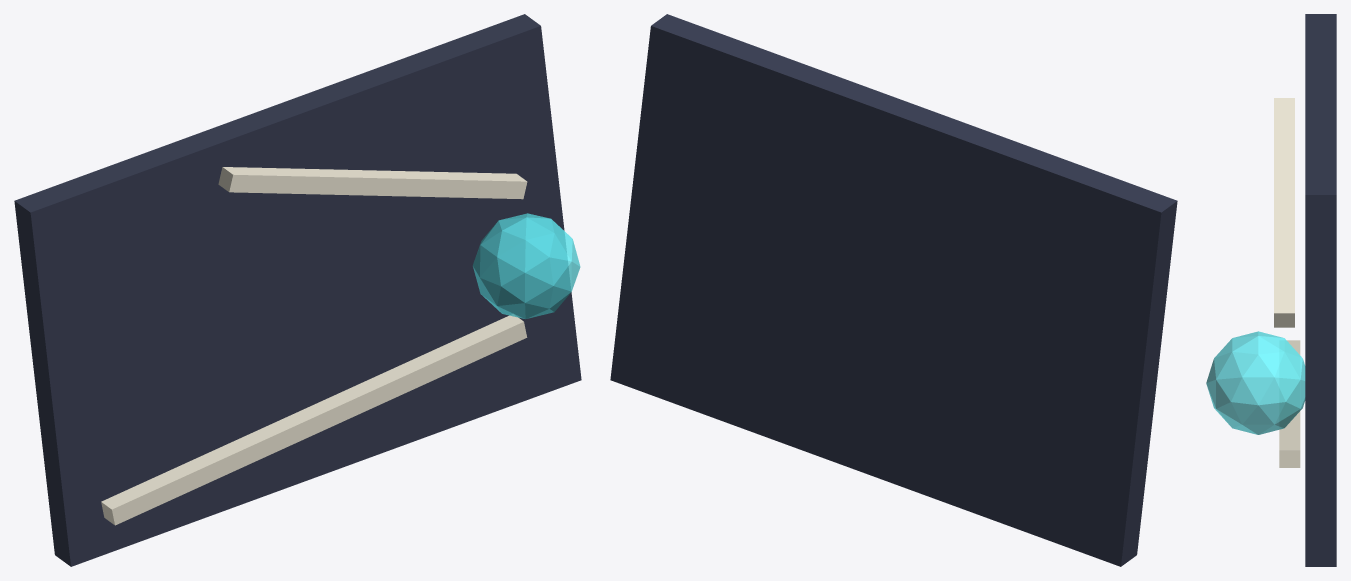
The model's file is 02_world_prop_polish.glb.
3 views of the same model, side by side, from view 1: azimuth 30°, elevation 25°; view 2: azimuth 150°, elevation 25°; view 3: azimuth 270°, elevation 25° (orthographic). The views are drawn at different scales.
Visible parts, largest first — view 1: object_overlay_plate, edge_wear_a, glow_socket, edge_wear_b; view 2: object_overlay_plate; view 3: object_overlay_plate, glow_socket, edge_wear_b, edge_wear_a.
Boxes of the visible parts, x1,y1,x2,y2 form: object_overlay_plate: [14, 14, 581, 566]; edge_wear_a: [101, 315, 527, 525]; glow_socket: [472, 213, 580, 319]; edge_wear_b: [218, 167, 527, 199]; object_overlay_plate: [610, 14, 1177, 566]; object_overlay_plate: [1305, 14, 1336, 566]; glow_socket: [1206, 331, 1305, 434]; edge_wear_b: [1274, 98, 1294, 327]; edge_wear_a: [1279, 340, 1300, 467].
Bounding box in the file's own units: 1.18 × 0.8722 × 0.25.
